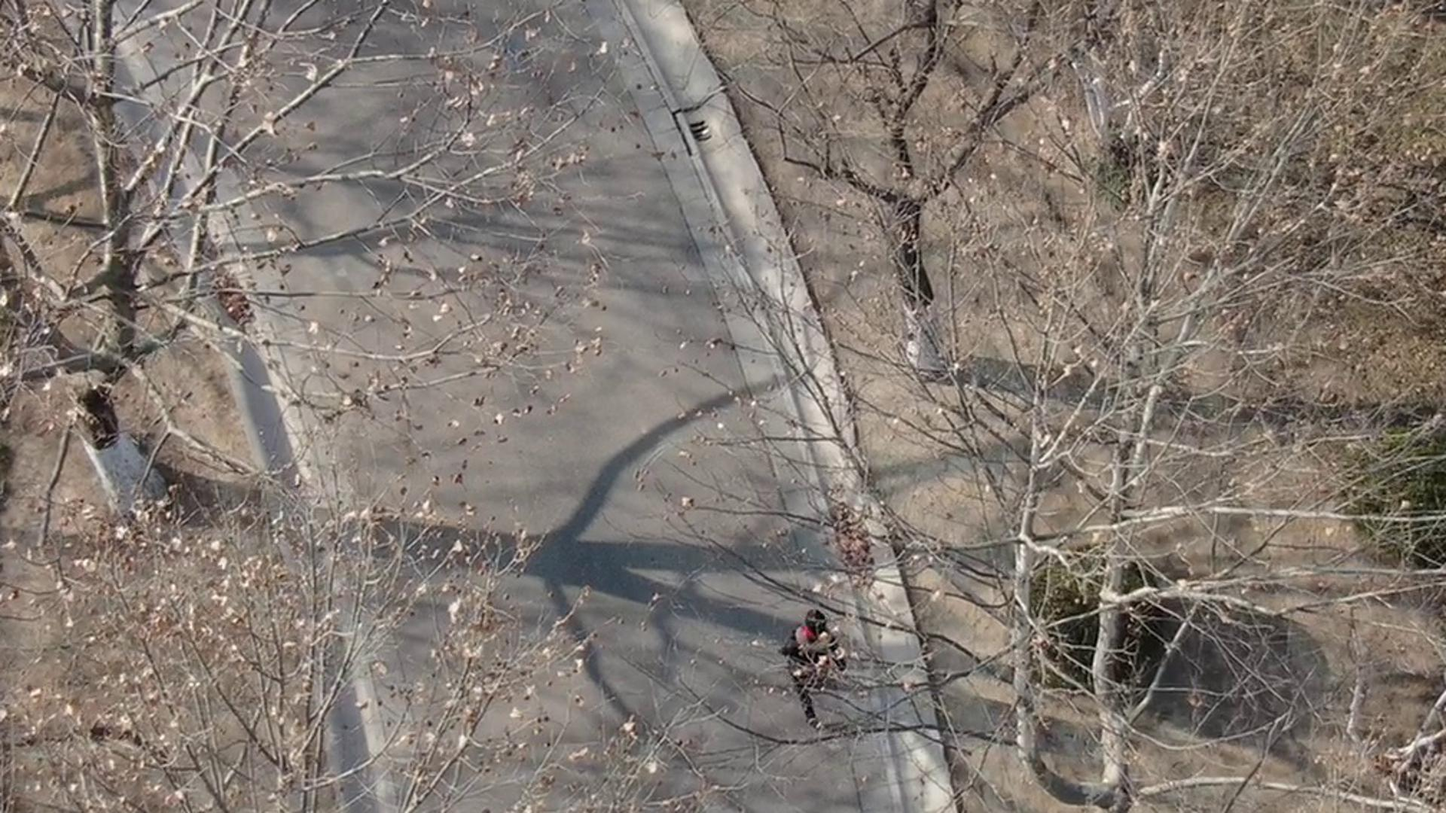human: (786, 595, 846, 714)
